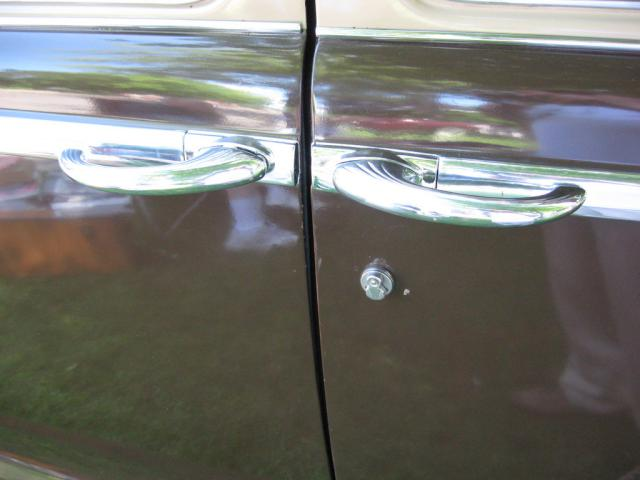Door-handle: (329, 160, 586, 228), (58, 144, 268, 200)
